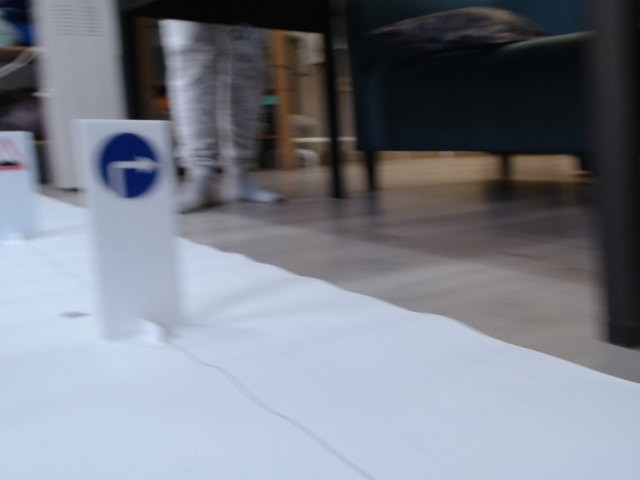Right: (97, 132, 159, 196)
